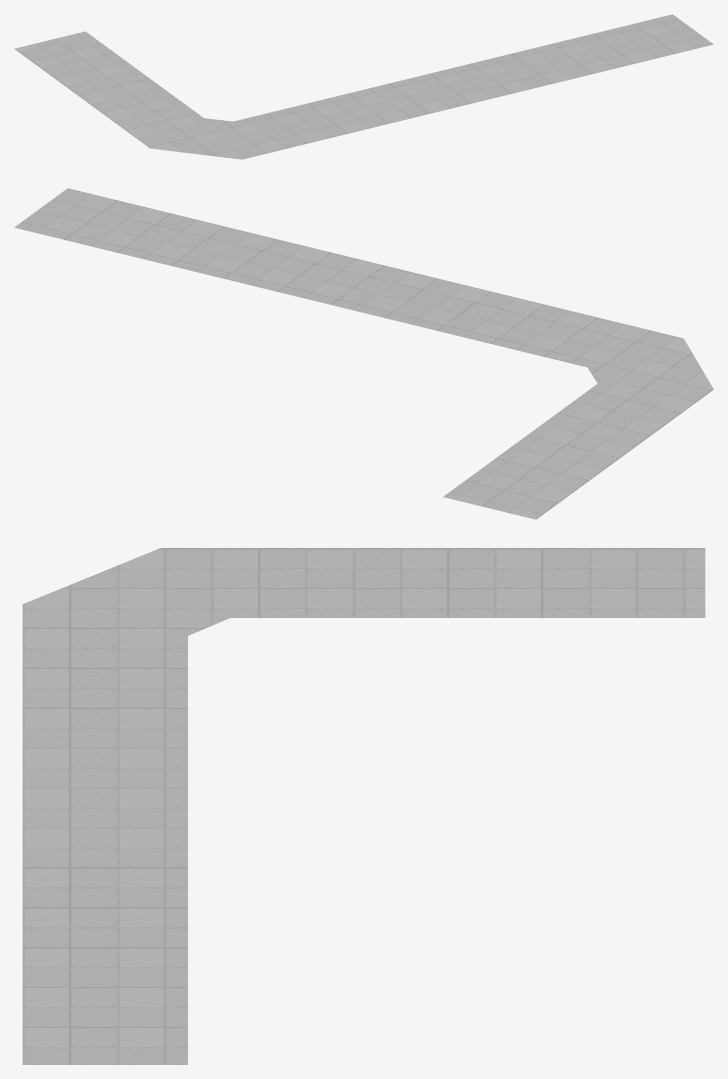
Rendered from kd_stage_1366d7_0_28.glb.
3 views of the same model, one above another, from view 1: azimuth 30°, elevation 25°; view 2: azimuth 150°, elevation 25°; view 3: azimuth 270°, elevation 25° (orthographic). The views are drawn at different scales.
Parts seen in each view (by area): view 1: kd_stage_1366d7_0_28; view 2: kd_stage_1366d7_0_28; view 3: kd_stage_1366d7_0_28.
Part boxes in pixels (x1,y1,x2,y2): kd_stage_1366d7_0_28: (14, 14, 713, 159); kd_stage_1366d7_0_28: (14, 188, 713, 519); kd_stage_1366d7_0_28: (22, 548, 705, 1064).
Size of the model in its own units: 30.21 by 0.000452 by 16.86.
Materials: 1 (1 with a texture image).
